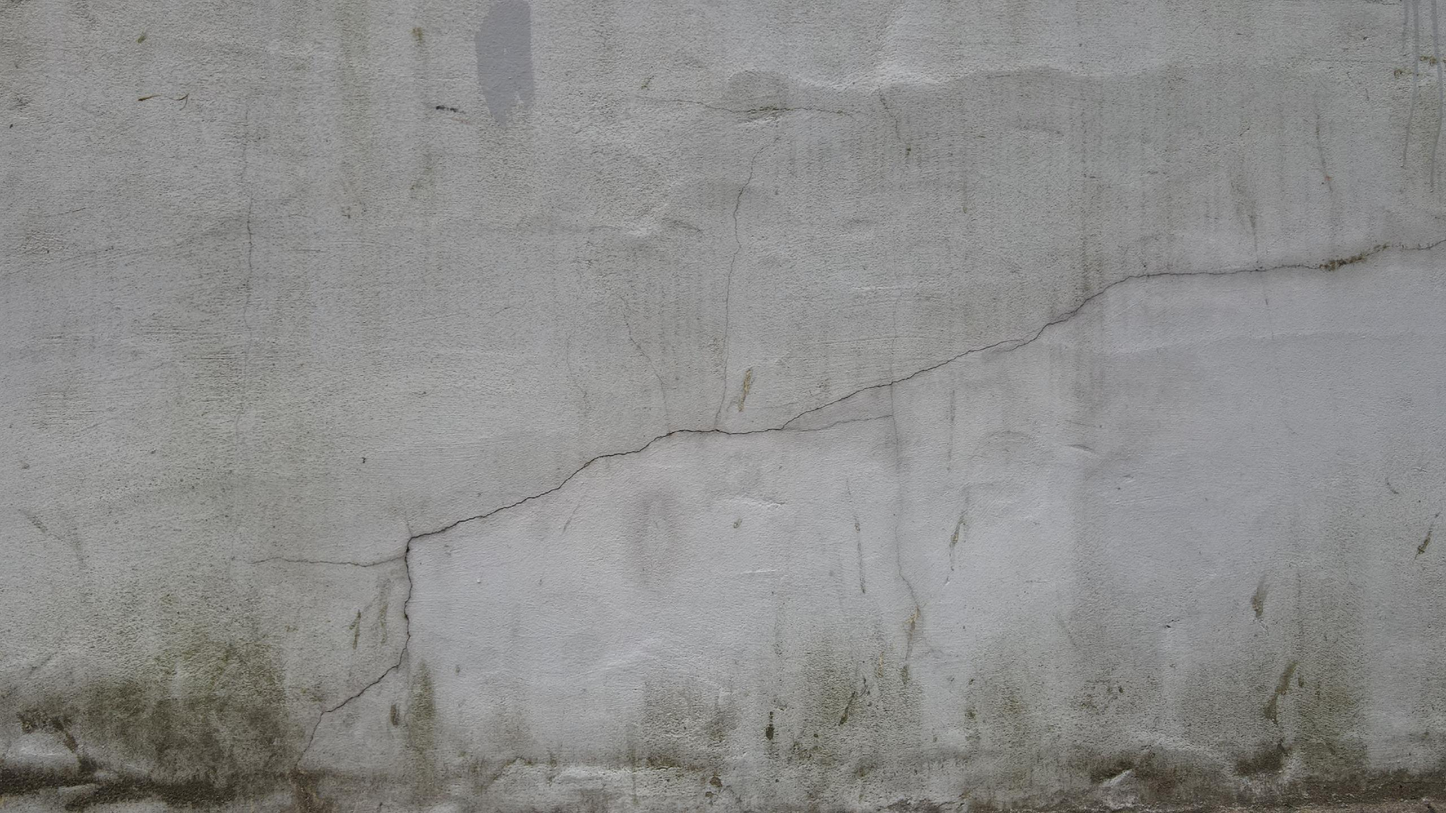crack: (280, 235, 1429, 774)
